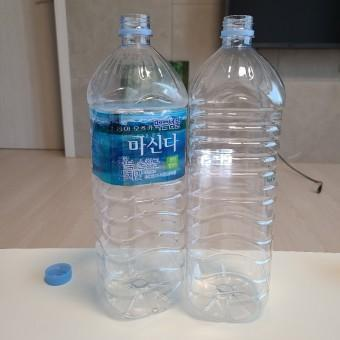bottle: (86, 14, 191, 319), (182, 16, 283, 322)
